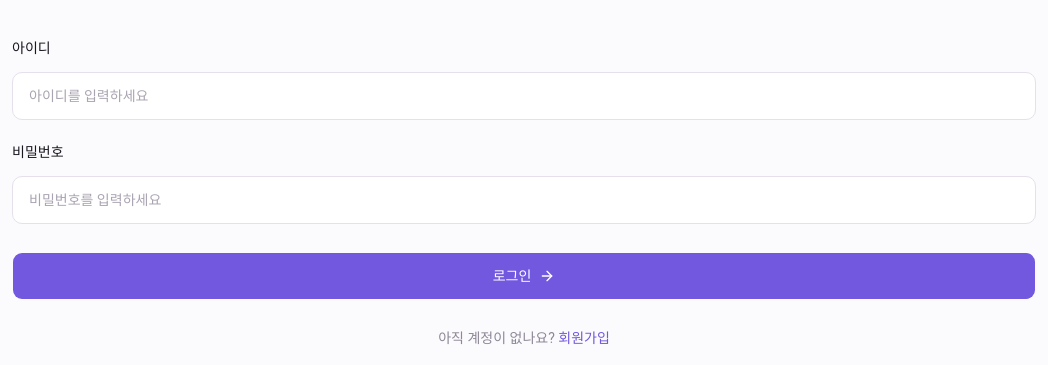
Scenario: login API integration › blocks repeated submission while a request is pending
This screenshot has width=1048, height=365.
Type "  driver  " into the field labelled "아이디" at (524, 96), box top-left (12, 72), bottom-right (1036, 120)
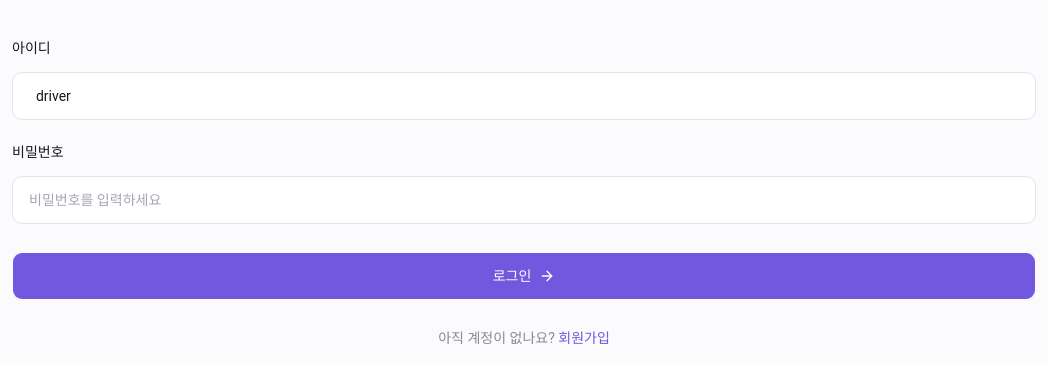
Type "password123" into the password field labelled "비밀번호" at (524, 200), box top-left (12, 176), bottom-right (1036, 224)
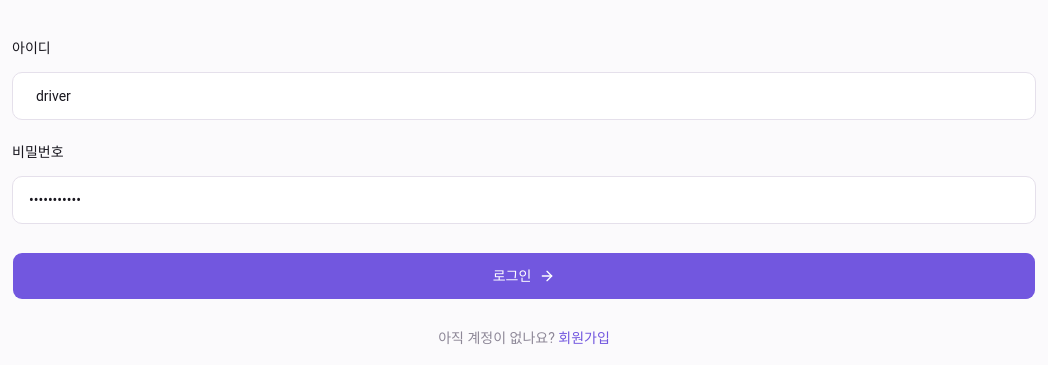
Click the button "로그인" at (524, 276), box top-left (12, 252), bottom-right (1036, 300)
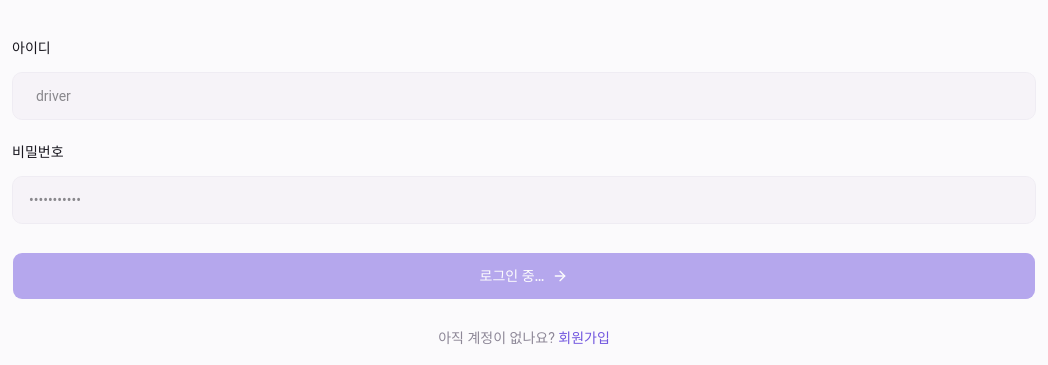
Now the button "로그인 중…" is disabled, box top-left (12, 252), bottom-right (1036, 300)
Submit the form
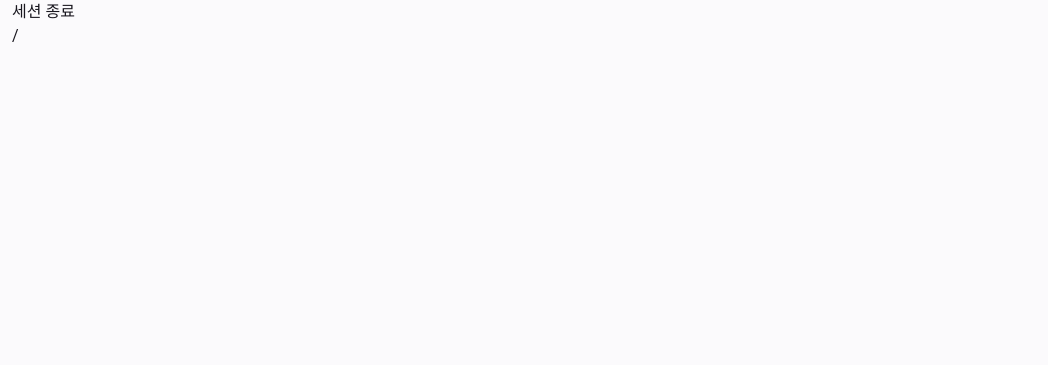
Now the text "/" is shown, box top-left (12, 26), bottom-right (19, 45)
